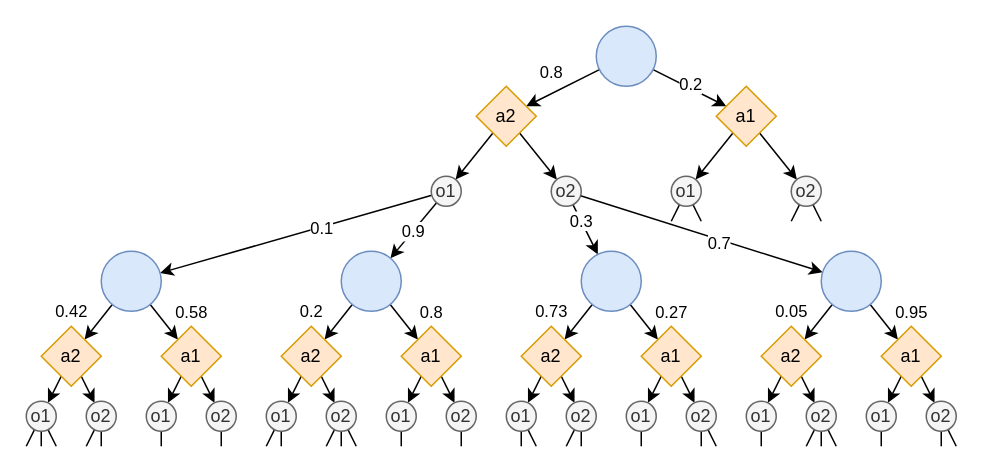
This 984x474 diagram has some shape labels left out. Here are the shapes that lost their labels. From the top down, the box of each, then its label:
(595, 25, 656, 86): q0
(100, 250, 161, 311): q1
(340, 250, 401, 311): q2
(580, 250, 641, 311): q3
(820, 250, 881, 311): q4
